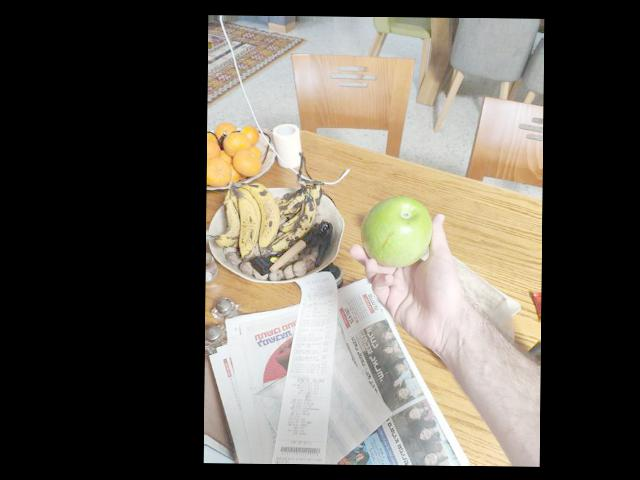apple: (358, 188, 434, 271)
